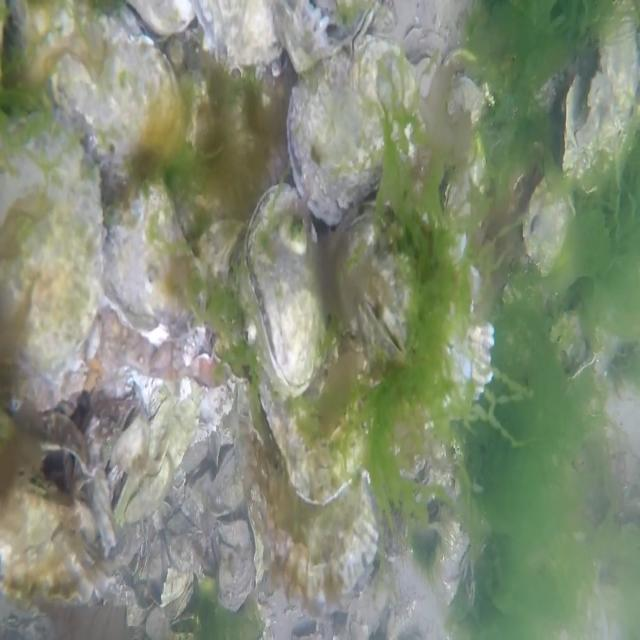Oyster-Closed: (0, 109, 114, 391), (276, 35, 406, 229), (56, 26, 187, 161), (243, 183, 325, 396), (115, 180, 201, 328), (283, 0, 389, 71), (520, 182, 568, 276), (444, 165, 472, 212)
Oyster-Indeterminate: (333, 216, 495, 430), (266, 430, 389, 608), (272, 343, 380, 514), (562, 0, 640, 175), (114, 398, 200, 522), (0, 524, 117, 606), (0, 476, 81, 551), (202, 0, 292, 67), (215, 520, 257, 612), (208, 444, 244, 520), (375, 502, 411, 561), (446, 75, 485, 126)
Oyster-Open: (19, 410, 94, 498), (404, 50, 439, 104)
